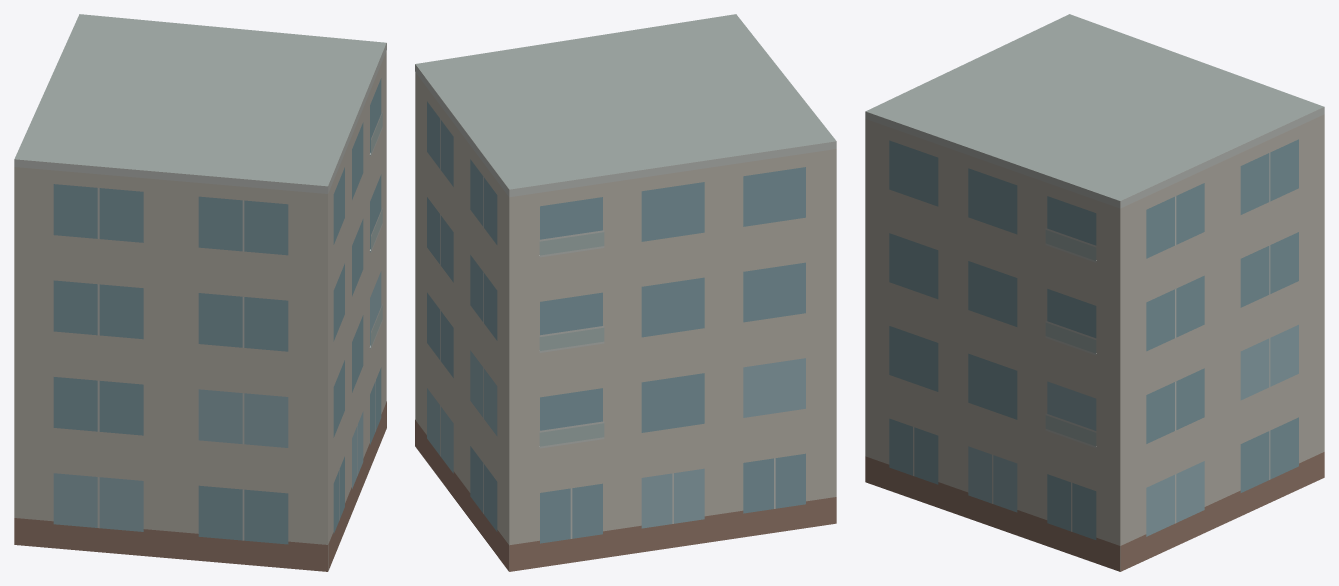
File: survey-upis-32908312.glb
3 renders of one model, left to right at view 1: azimuth 30°, elevation 25°; view 2: azimuth 150°, elevation 25°; view 3: azimuth 270°, elevation 25°, orthographic. The views are drawn at different scales.
Visible parts, largest first — view 1: survey-upis-32908312.tmp; view 2: survey-upis-32908312.tmp; view 3: survey-upis-32908312.tmp.
Part boxes in pixels (bbox=[...]): survey-upis-32908312.tmp: bbox=[14, 14, 386, 571]; survey-upis-32908312.tmp: bbox=[415, 14, 836, 571]; survey-upis-32908312.tmp: bbox=[865, 14, 1324, 571].
Size of the model in its own units: 13.22 by 12.2 by 13.7.
